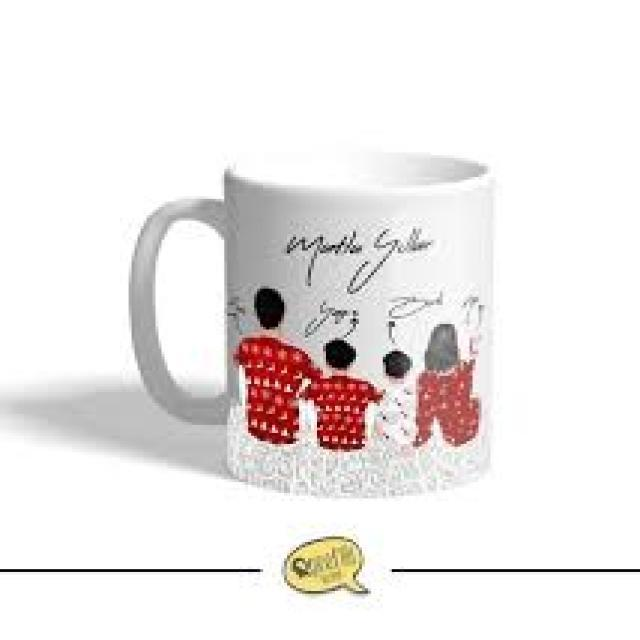taza: (128, 147, 501, 500)
